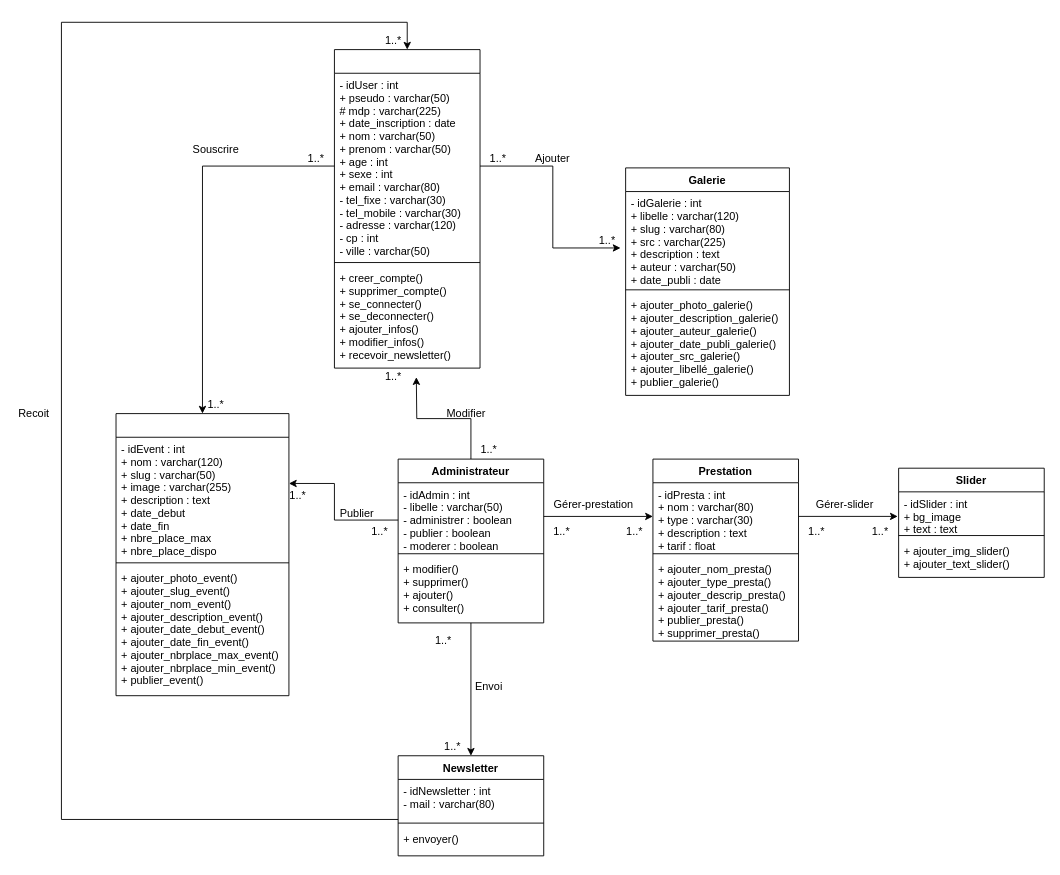
Image size: 1060x875. Some labels were removed from this diagram. Each missing label, with the box of its shape:
Evenement: (115, 413, 289, 696)
Utilisateur: (334, 49, 480, 368)
